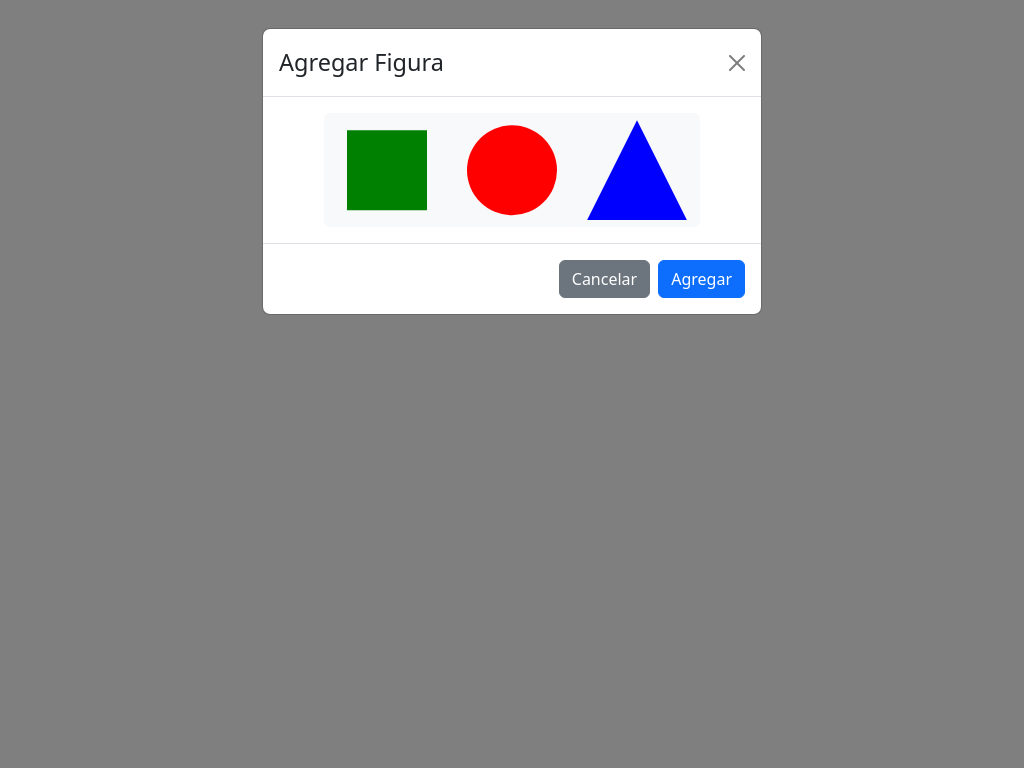
it: AddFigure component › shows an error message if no figure is selected when clicking on Agregar button
Click the button "Agregar": (702, 279) [658,260,745,298]
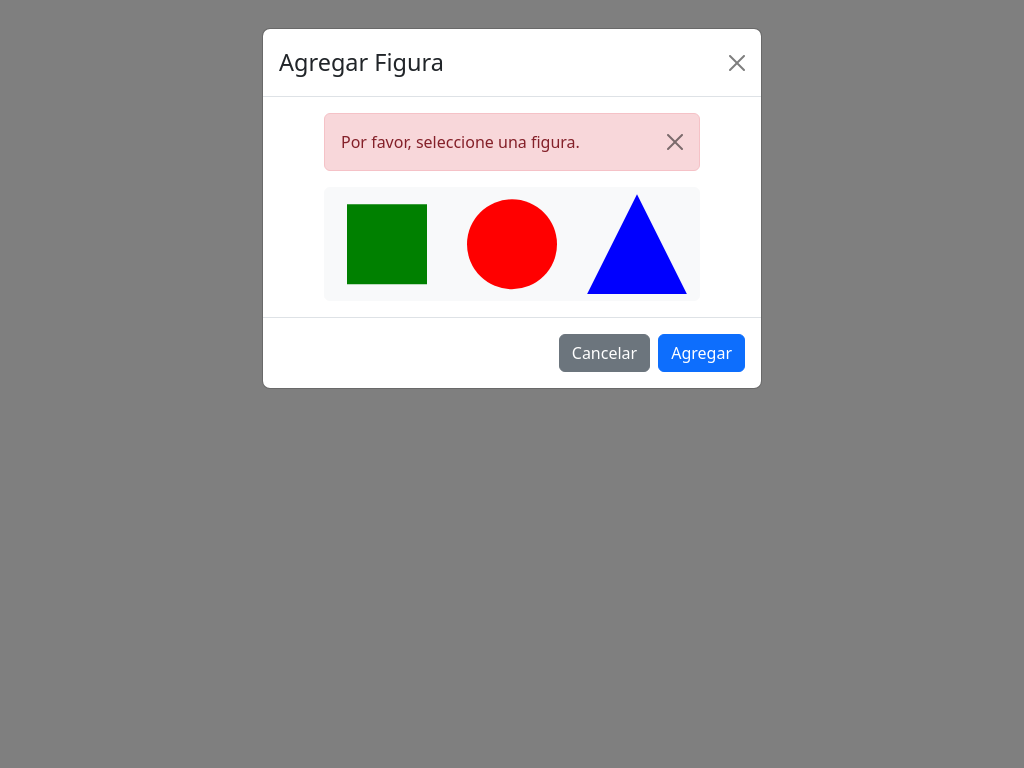
Expected: the text "Por favor, seleccione una figura." is shown, [324,113,700,171]
